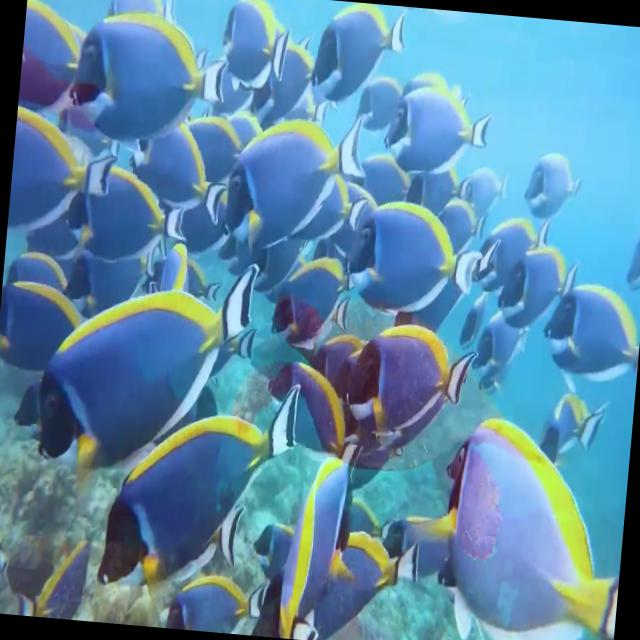fish: (26, 244, 257, 493), (93, 369, 302, 612), (428, 413, 631, 640), (216, 94, 374, 266), (60, 0, 242, 146), (262, 439, 370, 640), (341, 305, 480, 444), (342, 191, 486, 322), (376, 59, 504, 184), (118, 101, 230, 241), (8, 94, 122, 230), (262, 208, 370, 348), (311, 505, 421, 640), (297, 0, 417, 116), (164, 527, 276, 637), (542, 268, 640, 378), (0, 246, 89, 367), (494, 222, 580, 336), (471, 182, 558, 286), (17, 0, 87, 116), (212, 0, 299, 87), (256, 22, 326, 128), (522, 132, 591, 226), (354, 64, 418, 125), (408, 153, 468, 214)
